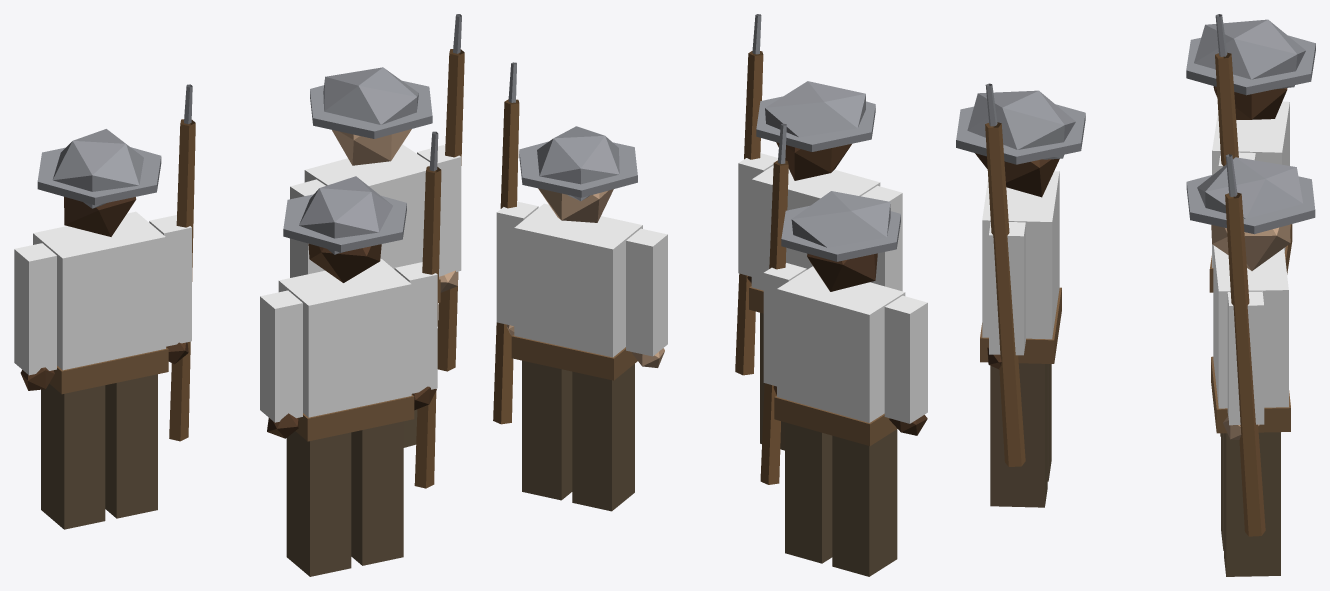
Rendered from Musketman.glb.
The picture shows the model from 3 angles, left to right: view 1: azimuth 30°, elevation 25°; view 2: azimuth 150°, elevation 25°; view 3: azimuth 270°, elevation 25°; orthographic projection. The views are drawn at different scales.
Parts seen in each view (by area): view 1: Units_Musketman; view 2: Units_Musketman; view 3: Units_Musketman.
Boxes of the visible parts, x1,y1,x2,y2 form: Units_Musketman: (14, 14, 464, 576); Units_Musketman: (493, 14, 927, 576); Units_Musketman: (956, 14, 1315, 576).
Bounding box in the file's own units: 0.2405 × 0.2202 × 0.1641.
